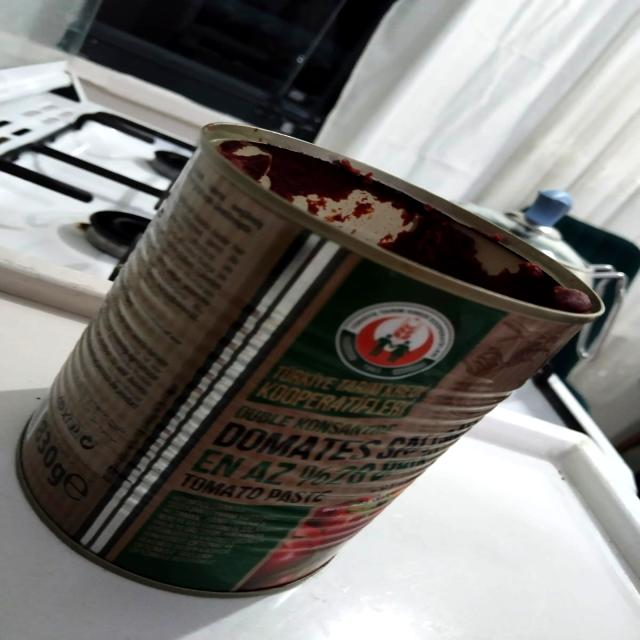tomato paste: (44, 141, 611, 557)
